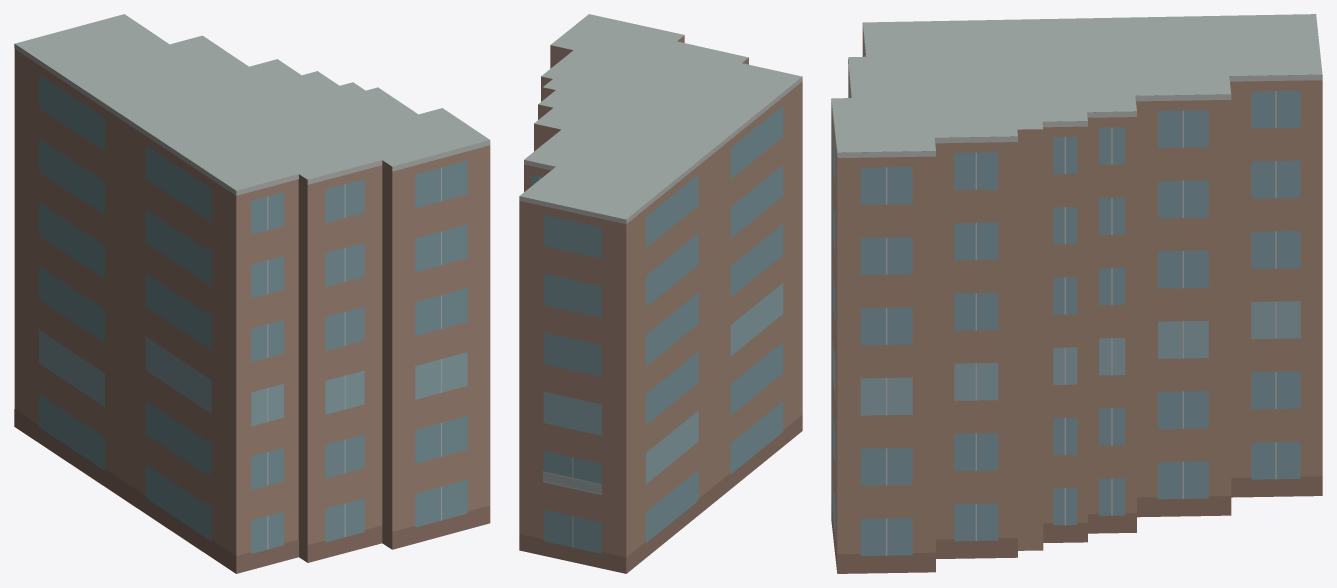
The model's file is survey-upis-32551655.glb.
The picture shows the model from 3 angles, left to right: view 1: azimuth 30°, elevation 25°; view 2: azimuth 150°, elevation 25°; view 3: azimuth 270°, elevation 25°; orthographic projection. The views are drawn at different scales.
Visible parts, largest first — view 1: survey-upis-32551655.tmp; view 2: survey-upis-32551655.tmp; view 3: survey-upis-32551655.tmp.
Boxes of the visible parts, x1,y1,x2,y2 form: survey-upis-32551655.tmp: [14, 14, 490, 573]; survey-upis-32551655.tmp: [519, 14, 802, 573]; survey-upis-32551655.tmp: [831, 14, 1322, 573].
Bounding box in the file's own units: 12.91 × 18.3 × 19.34.
